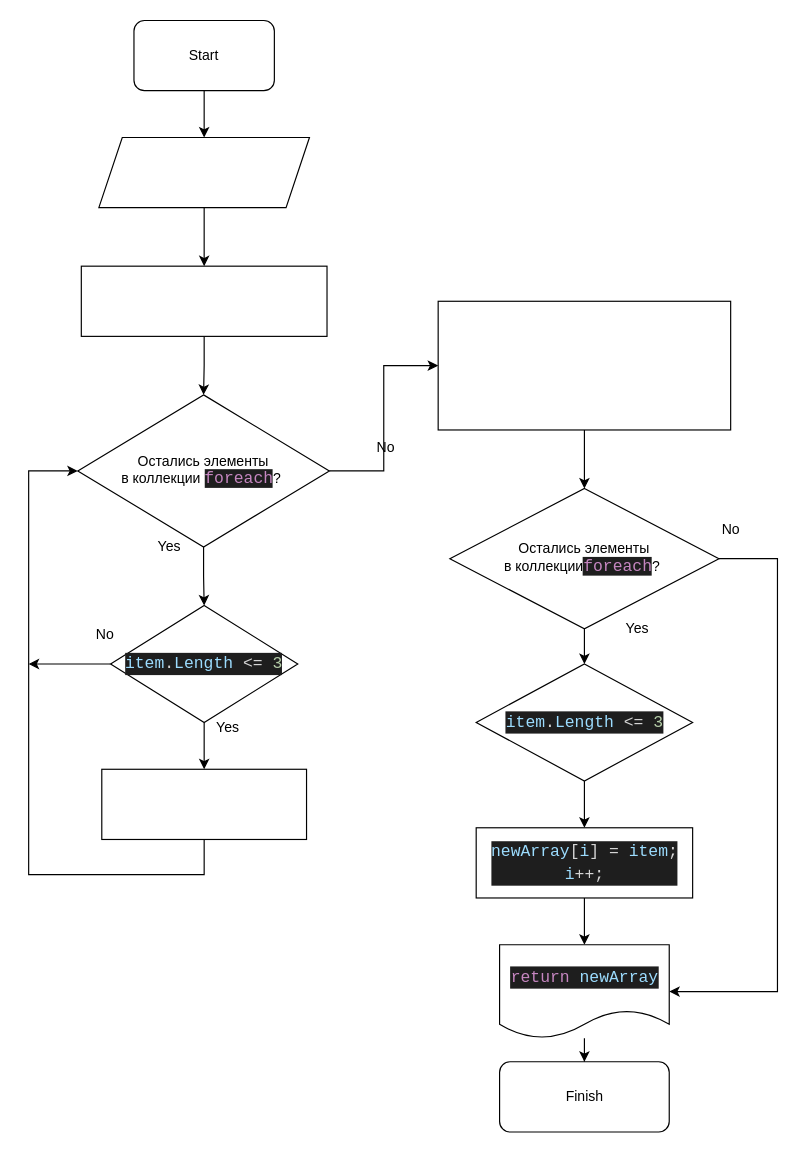
Some shapes in this 807 by 1152 pixel diagram are drawn without their labels. Here are the shapes that lost their labels. From the top down, the centre of each, then its label:
At (x=203, y=172): "string [] inArray".
At (x=203, y=300): "int countSmallString = 0 ;".
At (x=584, y=365): "string [] newArray = new string [ countSmallString ]; int i = 0 ;".
At (x=204, y=803): "countSmallString++".
